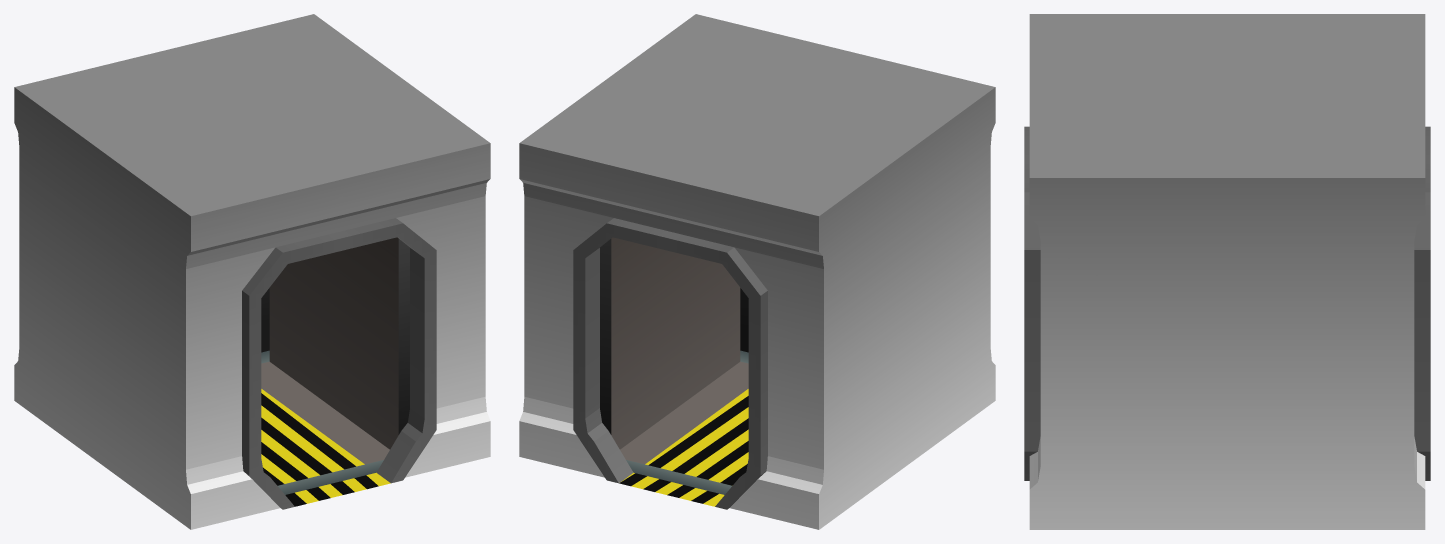
File: PuertaDelgada01.fbx
The picture shows the model from 3 angles, left to right: view 1: azimuth 30°, elevation 25°; view 2: azimuth 150°, elevation 25°; view 3: azimuth 270°, elevation 25°; orthographic projection. The views are drawn at different scales.
Parts seen in each view (by area): view 1: PuertaDelgaada; view 2: PuertaDelgaada; view 3: PuertaDelgaada.
Boxes of the visible parts, box(x1,y1,x2,y2) form: PuertaDelgaada: box(14, 14, 490, 529); PuertaDelgaada: box(519, 14, 995, 529); PuertaDelgaada: box(1024, 14, 1430, 529).
Bounding box in the file's own units: 39.37 × 39.37 × 41.21.
